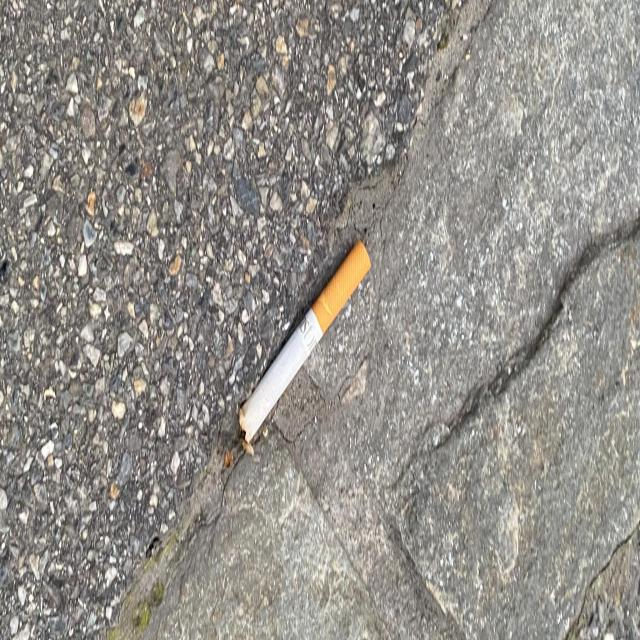other waste: (236, 237, 372, 445)
